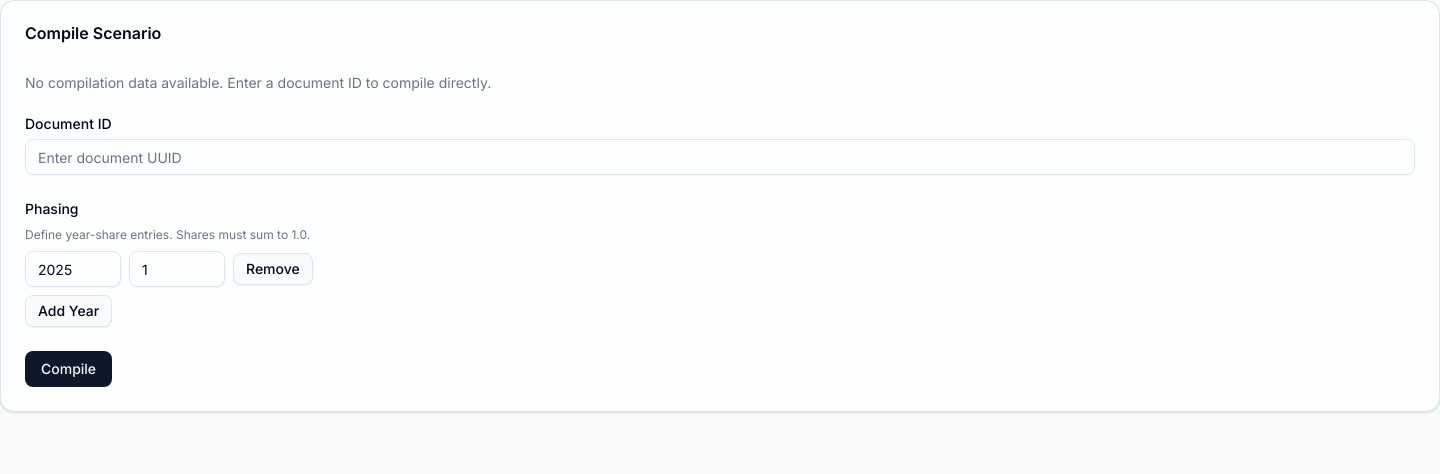
Test: ScenarioCompileForm › phasing editor › adds a new phasing entry when add button is clicked
The image size is (1440, 474).
Click the button "Add Year" at (69, 311), box [25,295,112,327]
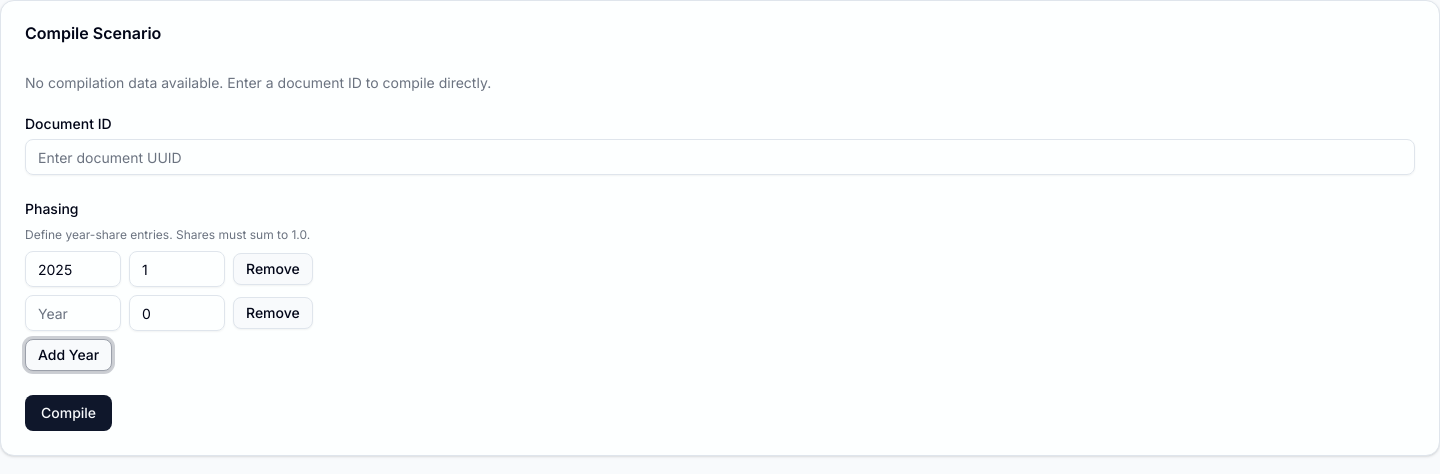
Expected: the number of fields with placeholder "Year" is 2, [25,251,121,287]; [25,295,121,331]
